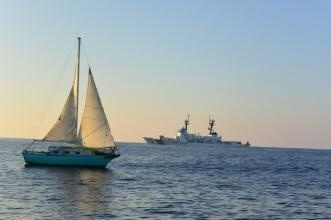fanchuan: (16, 32, 121, 167)
warship: (137, 114, 264, 147)
